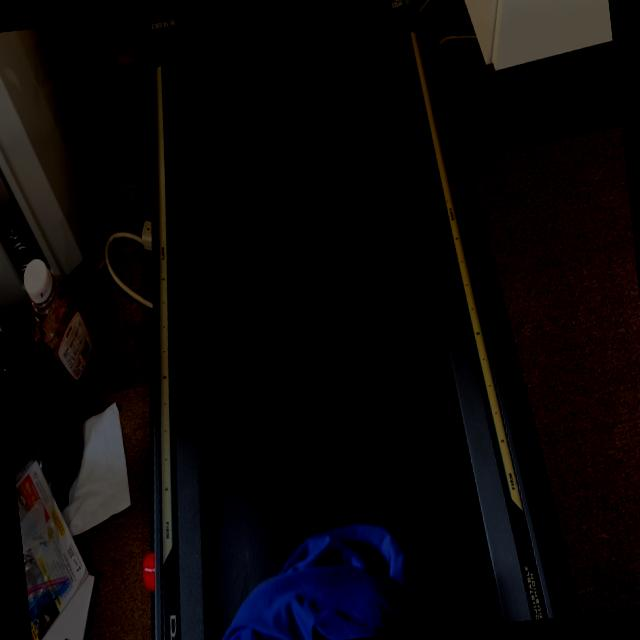Trash: (198, 512, 418, 640)
